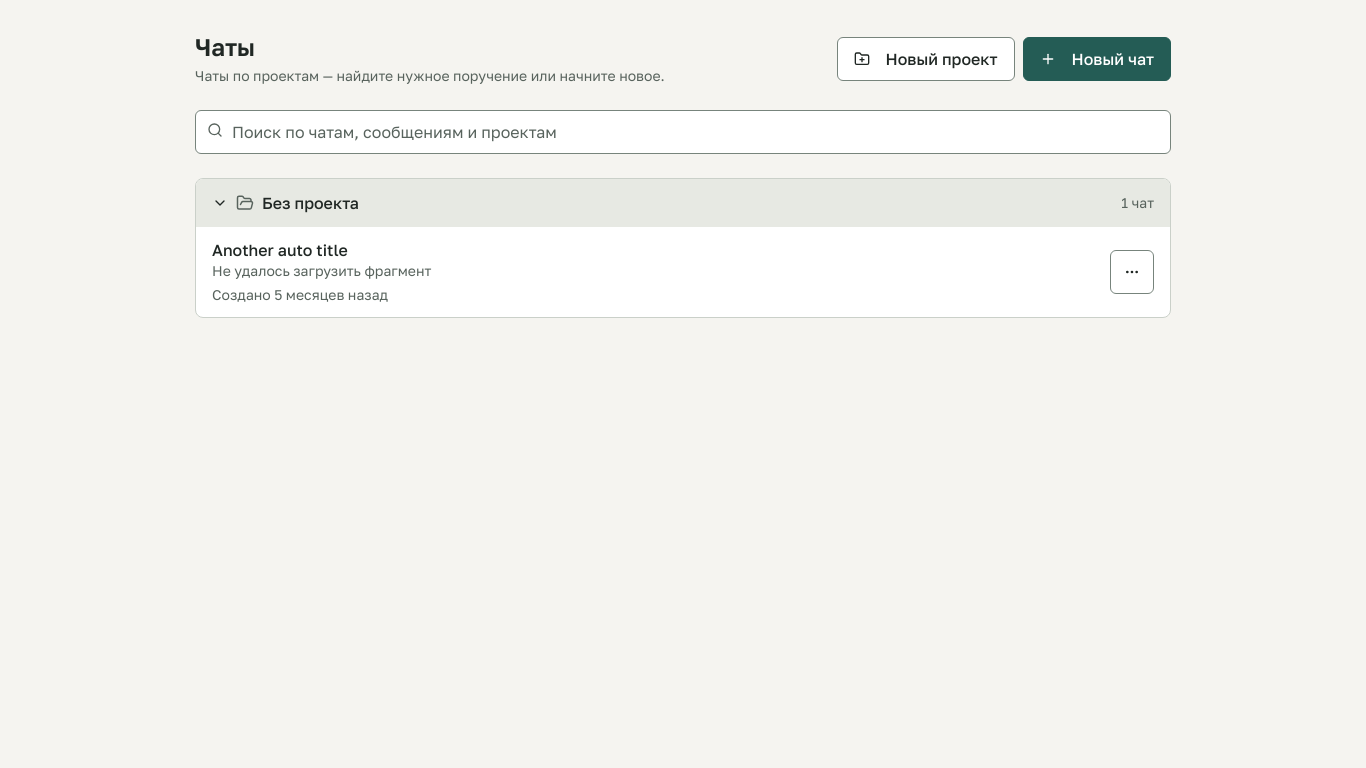
Test: regenerateTitle 409 → verbatim Russian toast › toasts the verbatim Russian body when server returns 409 title_in_flight
The width and height of the screenshot is (1366, 768).
Expected: the text "Another auto title" is shown, [212,240,348,260]
What coordinates should you click on to do the following:
click the button named "Меню чата «Another auto title»"
I would click on:
 (1132, 272)
Its box is [1110,250,1154,294].
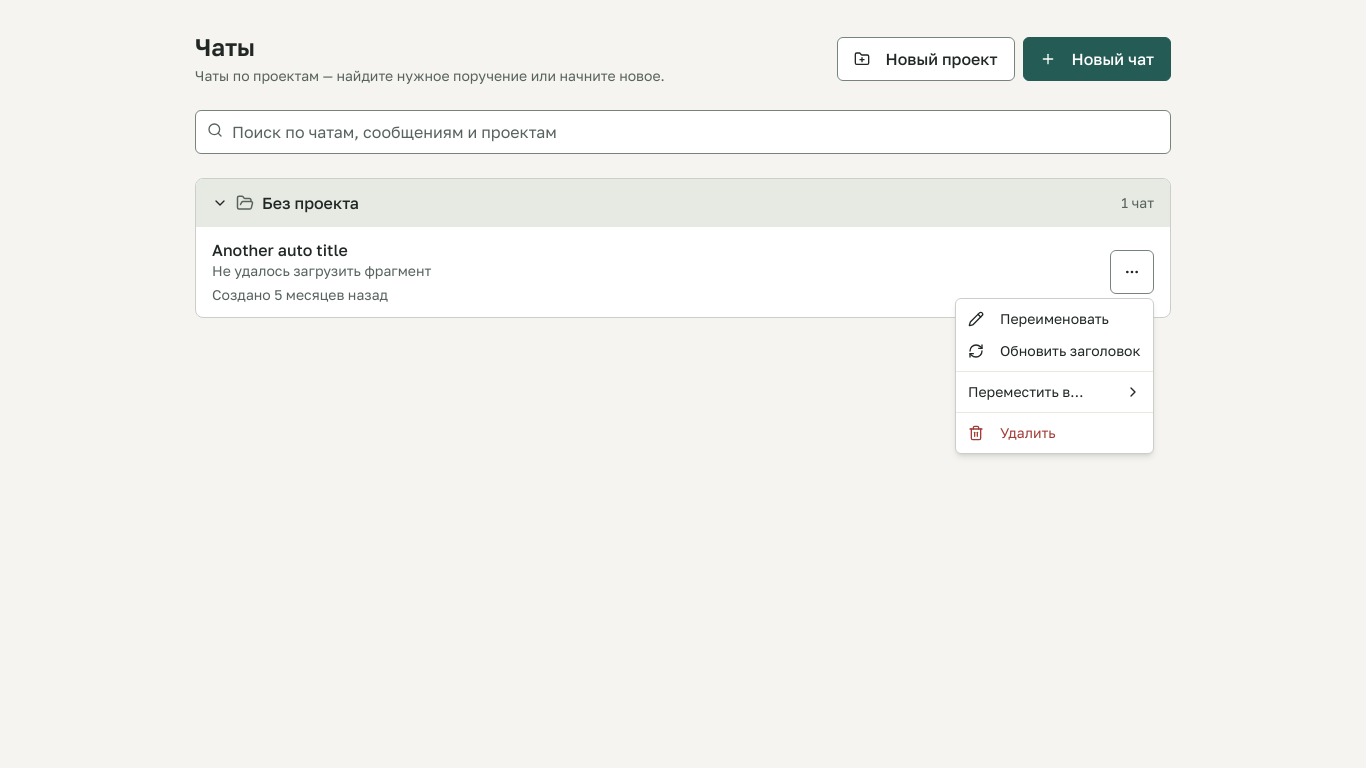
What coordinates should you click on to do the following:
click the menu item "Обновить заголовок"
I would click on:
 (1054, 350)
Its box is [968,342,1141,359].
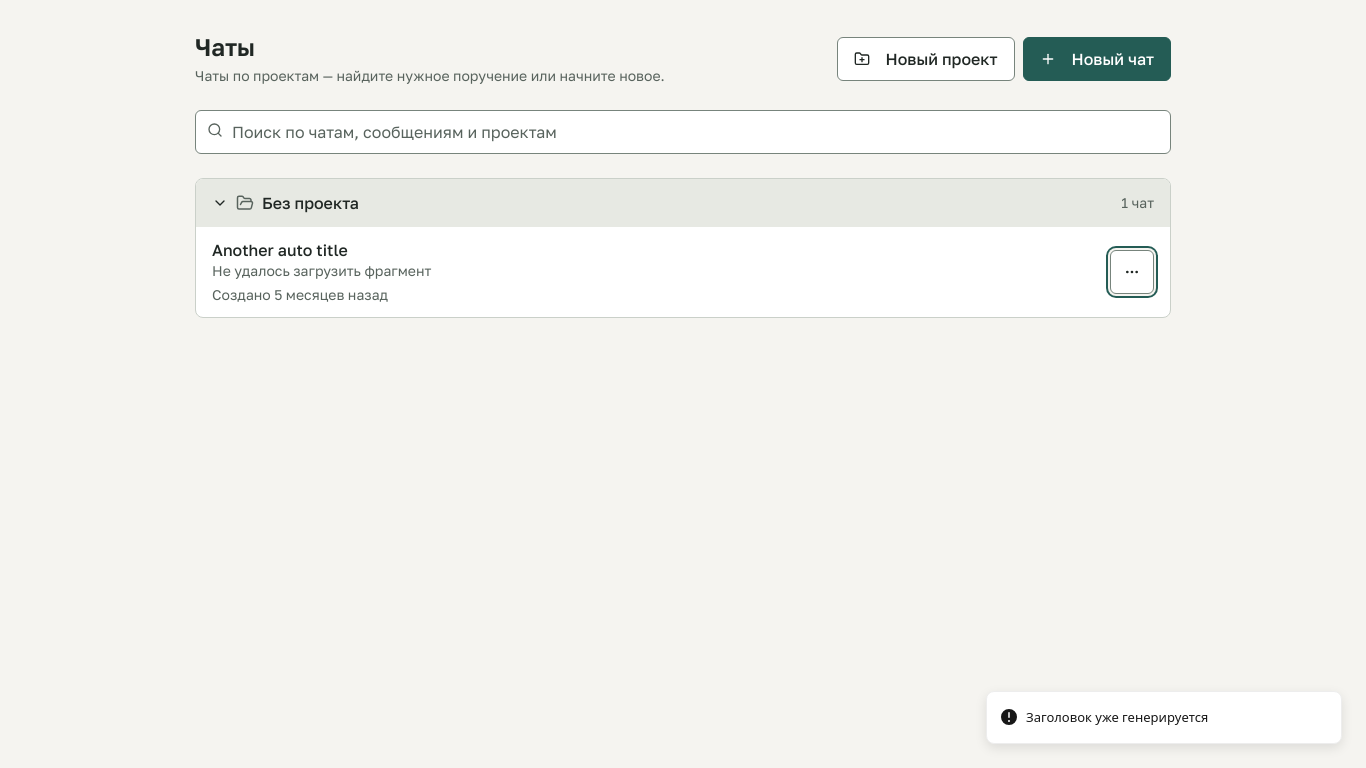
Expected: the text "Заголовок уже генерируется" is shown, [1026,708,1208,727]
